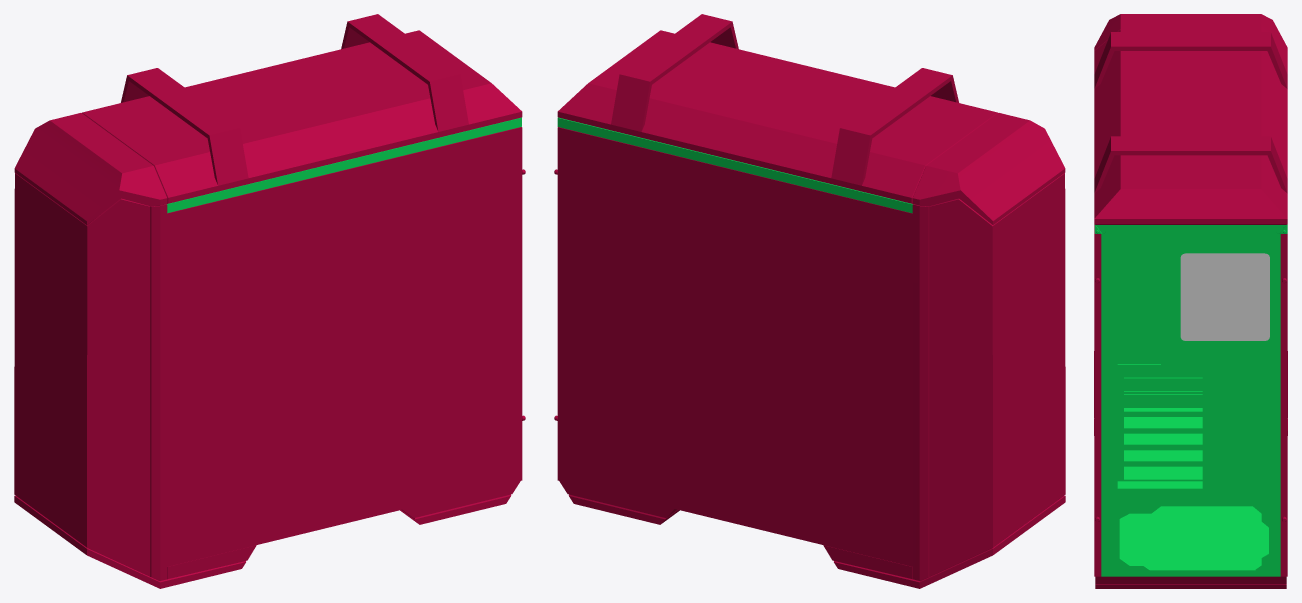
The model's file is pc_case_g_cover.fbx.
3 views of the same model, side by side, from view 1: azimuth 30°, elevation 25°; view 2: azimuth 150°, elevation 25°; view 3: azimuth 270°, elevation 25° (orthographic). The views are drawn at different scales.
Parts seen in each view (by area): view 1: pc_case_g_cover, pc_case_g_body; view 2: pc_case_g_door, pc_case_g_cover, pc_case_g_body; view 3: pc_case_g_body, pc_case_g_cover, pc_case_g_wire, pc_case_g_door.
Part boxes in pixels (left/top/right/bottom): pc_case_g_cover: left=14, top=14, right=525, bottom=588; pc_case_g_body: left=167, top=117, right=521, bottom=213; pc_case_g_door: left=554, top=127, right=912, bottom=566; pc_case_g_cover: left=557, top=14, right=1065, bottom=588; pc_case_g_body: left=557, top=117, right=912, bottom=213; pc_case_g_body: left=1094, top=224, right=1287, bottom=576; pc_case_g_cover: left=1094, top=14, right=1287, bottom=588; pc_case_g_wire: left=1180, top=253, right=1269, bottom=340; pc_case_g_door: left=1280, top=233, right=1287, bottom=576.
Bounding box in the file's own units: 54.12 × 52.54 × 21.97.
